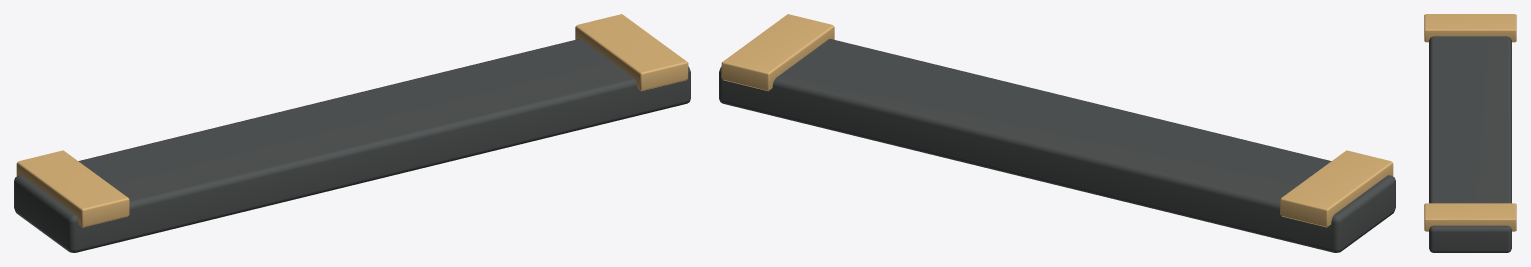
File: hp_furniture_cold_ceiling_light_slot_v1.glb
3 views of the same model, side by side, from view 1: azimuth 30°, elevation 25°; view 2: azimuth 150°, elevation 25°; view 3: azimuth 270°, elevation 25° (orthographic). The views are drawn at different scales.
Parts seen in each view (by area): view 1: long_recessed_dark_housing, brass_ceiling_mount_cap, brass_ceiling_mount_cap.001; view 2: long_recessed_dark_housing, brass_ceiling_mount_cap, brass_ceiling_mount_cap.001; view 3: long_recessed_dark_housing, brass_ceiling_mount_cap.001, brass_ceiling_mount_cap.
Boxes of the visible parts, <box> form: long_recessed_dark_housing: <box>14,39,690,252</box>; brass_ceiling_mount_cap: <box>16,150,129,227</box>; brass_ceiling_mount_cap.001: <box>575,14,688,91</box>; long_recessed_dark_housing: <box>719,39,1395,252</box>; brass_ceiling_mount_cap: <box>1280,150,1393,227</box>; brass_ceiling_mount_cap.001: <box>721,14,834,91</box>; long_recessed_dark_housing: <box>1429,36,1511,252</box>; brass_ceiling_mount_cap.001: <box>1424,203,1516,231</box>; brass_ceiling_mount_cap: <box>1424,14,1516,42</box>.
Size of the model in its own units: 2.05 by 0.15 by 0.38.
